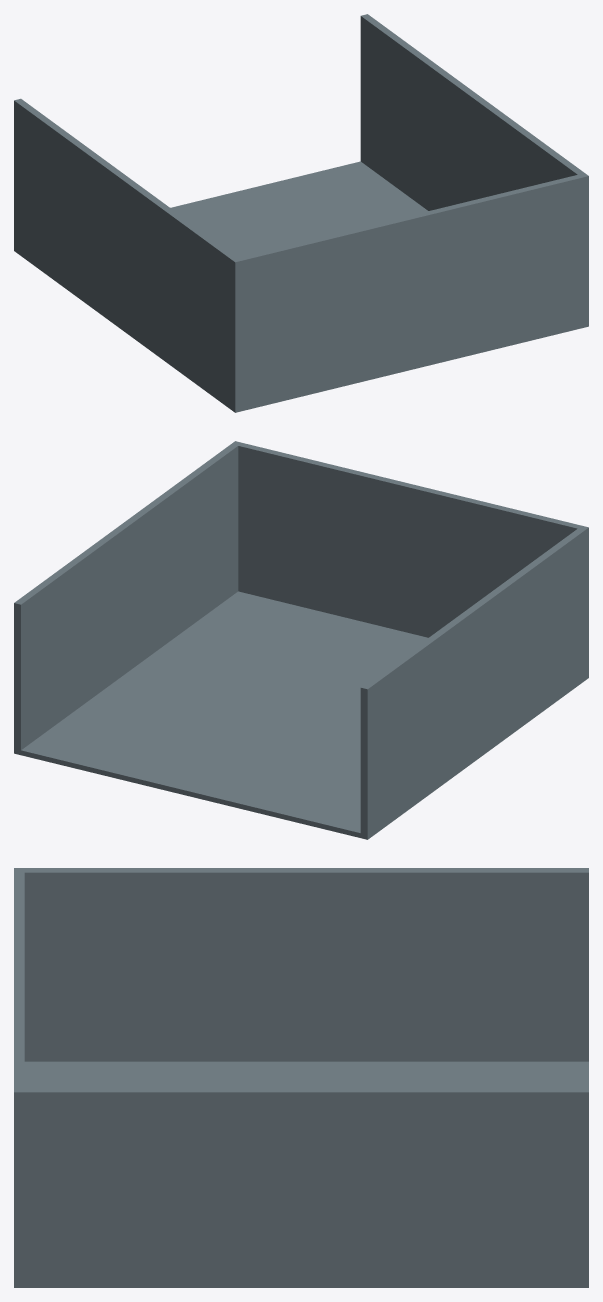
File: room_blockout.glb
3 views of the same model, one above another, from view 1: azimuth 30°, elevation 25°; view 2: azimuth 150°, elevation 25°; view 3: azimuth 270°, elevation 25° (orthographic). The views are drawn at different scales.
Visible parts, largest first — view 1: RoomBlockout; view 2: RoomBlockout; view 3: RoomBlockout.
Boxes of the visible parts, x1,y1,x2,y2 form: RoomBlockout: (14,14,588,412); RoomBlockout: (14,441,588,839); RoomBlockout: (14,868,588,1287).
Size of the model in its own units: 6 by 2.44 by 6.5.
